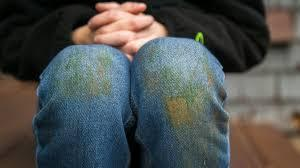earth: (66, 61, 111, 96), (146, 70, 205, 96), (165, 97, 194, 125)
